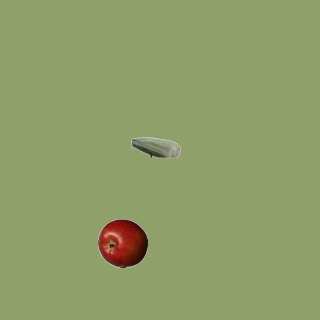Apple Braeburn: (97, 218, 147, 268)
Corn Husk: (130, 122, 180, 172)
